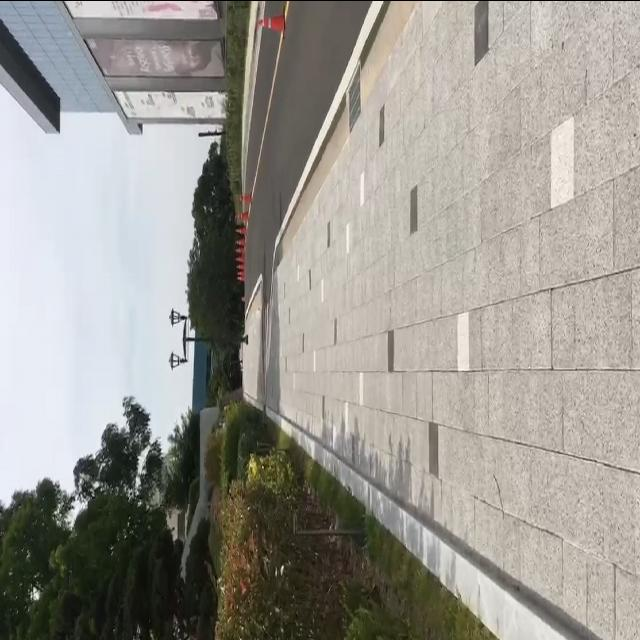obstacle: (251, 9, 288, 46)
road: (244, 0, 418, 310)
sidewalk: (264, 0, 640, 640), (239, 0, 266, 176), (241, 290, 264, 404)
